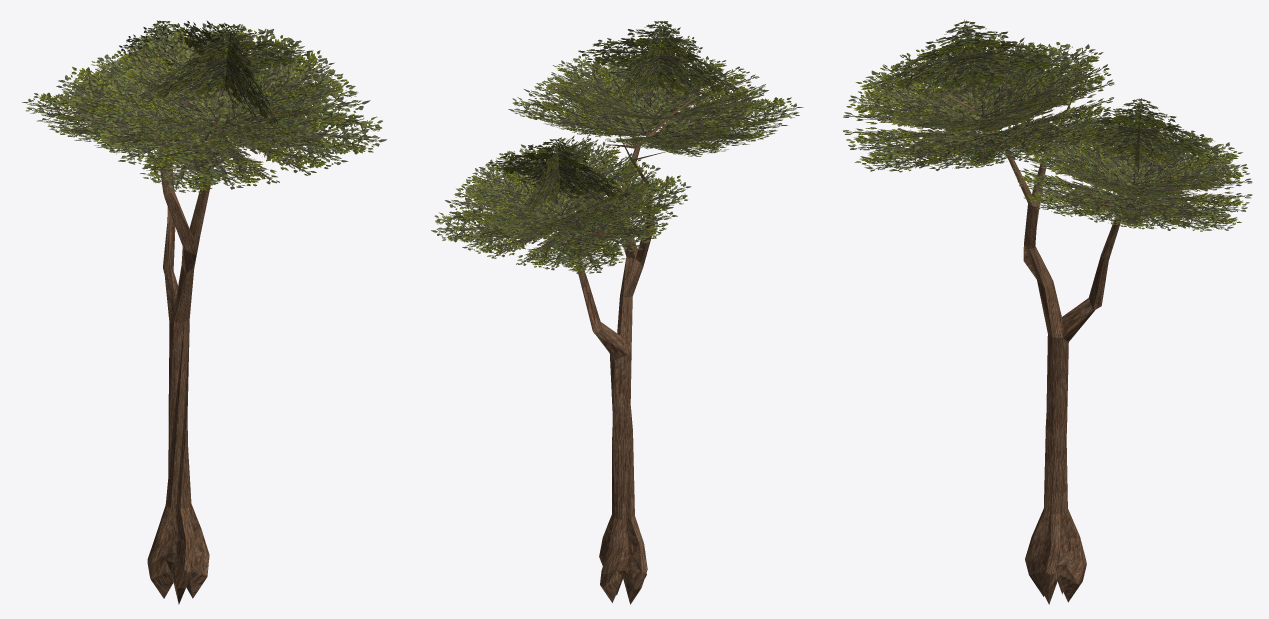
The model's file is decd_dath_fuourn_l0.fbx.
3 views of the same model, side by side, from view 1: azimuth 30°, elevation 25°; view 2: azimuth 150°, elevation 25°; view 3: azimuth 270°, elevation 25° (orthographic). The views are drawn at different scales.
Visible parts, largest first — view 1: mesh_node; view 2: mesh_node; view 3: mesh_node.
Boxes of the visible parts, box(x1,y1,x2,y2) form: mesh_node: box(22, 20, 386, 604); mesh_node: box(431, 21, 803, 604); mesh_node: box(843, 19, 1252, 604).
Bounding box in the file's own units: 36.01 × 75.57 × 48.28.
